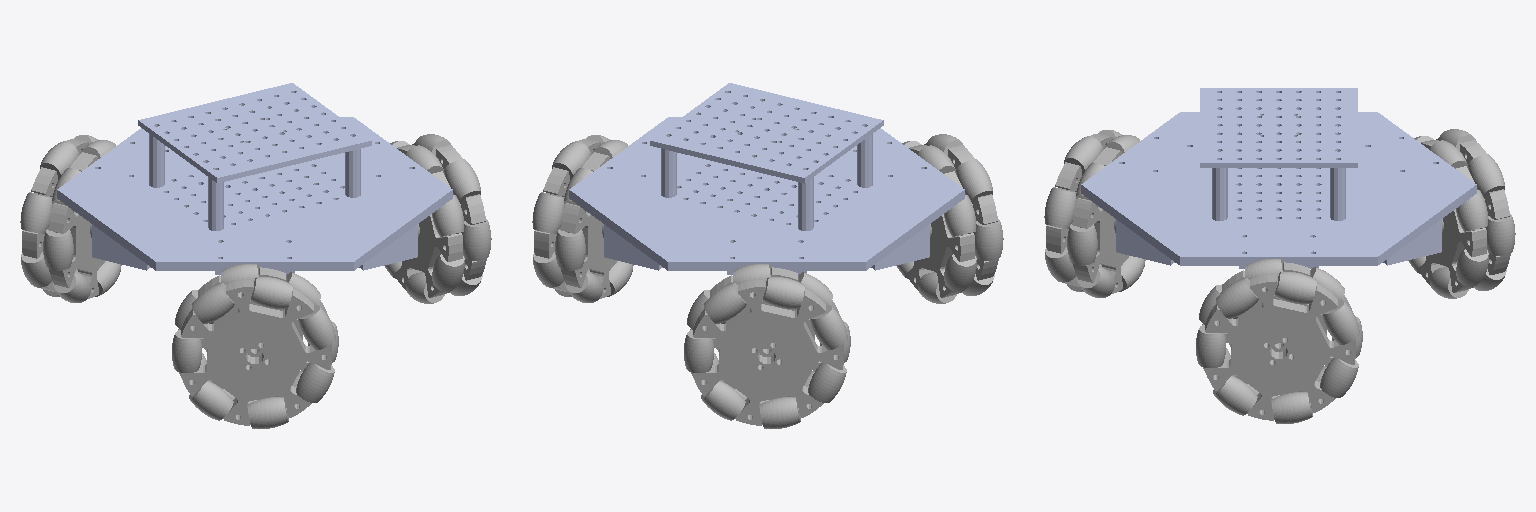
URDF robot description (allwheel_urdf):
<?xml version="1.0" encoding="utf-8"?>
<!-- This URDF was automatically created by SolidWorks to URDF Exporter! Originally created by [author] ([email redacted]) 
     Commit Version: 1.6.0-4-g7f85cfe  Build Version: 1.6.7995.38578
     For more information, please see http://wiki.ros.org/sw_urdf_exporter -->
<robot
  name="allwheel_urdf">
  <link
    name="base_link">
    <inertial>
      <origin
        xyz="3.2612801348364E-15 2.98274859672487E-15 -0.0102615683558075"
        rpy="0 0 0" />
      <mass
        value="0.255742000192013" />
      <inertia
        ixx="0.000302796409258888"
        ixy="-3.92027771042362E-19"
        ixz="-1.46296662392844E-19"
        iyy="0.000302202648247359"
        iyz="-9.95263713023803E-20"
        izz="0.000556226204689963" />
    </inertial>
    <visual>
      <origin
        xyz="0 0 0"
        rpy="0 0 0" />
      <geometry>
        <mesh
          filename="package://allwheel_urdf/meshes/base_link.STL" />
      </geometry>
      <material
        name="">
        <color
          rgba="0.792156862745098 0.819607843137255 0.933333333333333 1" />
      </material>
    </visual>
    <collision>
      <origin
        xyz="0 0 0"
        rpy="0 0 0" />
      <geometry>
        <mesh
          filename="package://allwheel_urdf/meshes/base_link.STL" />
      </geometry>
    </collision>
  </link>
  <link
    name="front_link">
    <inertial>
      <origin
        xyz="0.00291772242218888 -3.96001122382623E-17 3.67729594369733E-17"
        rpy="0 0 0" />
      <mass
        value="0.109903140807102" />
      <inertia
        ixx="2.82980917306225E-05"
        ixy="7.48060042323109E-22"
        ixz="-1.69854388671089E-21"
        iyy="1.73831765621433E-05"
        iyz="8.36445035413622E-21"
        izz="1.73831765621433E-05" />
    </inertial>
    <visual>
      <origin
        xyz="0 0 0"
        rpy="0 0 0" />
      <geometry>
        <mesh
          filename="package://allwheel_urdf/meshes/front_link.STL" />
      </geometry>
      <material
        name="">
        <color
          rgba="0.752941176470588 0.752941176470588 0.752941176470588 1" />
      </material>
    </visual>
    <collision>
      <origin
        xyz="0 0 0"
        rpy="0 0 0" />
      <geometry>
        <mesh
          filename="package://allwheel_urdf/meshes/front_link.STL" />
      </geometry>
    </collision>
  </link>
  <joint
    name="front_wheel_joint"
    type="continuous">
    <origin
      xyz="0.0990025403784439 0 -0.0351150000000006"
      rpy="0 0 0" />
    <parent
      link="base_link" />
    <child
      link="front_link" />
    <axis
      xyz="1 0 0" />
  </joint>
  <link
    name="right_Link">
    <inertial>
      <origin
        xyz="0.00291772242218893 -1.2490009027033E-16 3.36091510237884E-17"
        rpy="0 0 0" />
      <mass
        value="0.109903140807102" />
      <inertia
        ixx="2.82980917306225E-05"
        ixy="3.81164826264435E-21"
        ixz="-2.9926600267234E-21"
        iyy="1.73831765621433E-05"
        iyz="1.01781304777338E-20"
        izz="1.73831765621432E-05" />
    </inertial>
    <visual>
      <origin
        xyz="0 0 0"
        rpy="0 0 0" />
      <geometry>
        <mesh
          filename="package://allwheel_urdf/meshes/right_Link.STL" />
      </geometry>
      <material
        name="">
        <color
          rgba="0.752941176470588 0.752941176470588 0.752941176470588 1" />
      </material>
    </visual>
    <collision>
      <origin
        xyz="0 0 0"
        rpy="0 0 0" />
      <geometry>
        <mesh
          filename="package://allwheel_urdf/meshes/right_Link.STL" />
      </geometry>
    </collision>
  </link>
  <joint
    name="right_wheel_joint"
    type="continuous">
    <origin
      xyz="-0.0495012701892215 -0.0857387150069273 -0.0351150000000006"
      rpy="0 0 -2.09439510239319" />
    <parent
      link="base_link" />
    <child
      link="right_Link" />
    <axis
      xyz="1 0 0" />
  </joint>
  <link
    name="left_Link">
    <inertial>
      <origin
        xyz="0.00291772242218896 -8.32667268468867E-17 4.16322471001811E-17"
        rpy="0 0 0" />
      <mass
        value="0.109903140807102" />
      <inertia
        ixx="2.82980917306225E-05"
        ixy="8.470329472543E-22"
        ixz="-4.04814248834114E-21"
        iyy="1.73831765621433E-05"
        iyz="7.3114989324433E-21"
        izz="1.73831765621432E-05" />
    </inertial>
    <visual>
      <origin
        xyz="0 0 0"
        rpy="0 0 0" />
      <geometry>
        <mesh
          filename="package://allwheel_urdf/meshes/left_Link.STL" />
      </geometry>
      <material
        name="">
        <color
          rgba="0.752941176470588 0.752941176470588 0.752941176470588 1" />
      </material>
    </visual>
    <collision>
      <origin
        xyz="0 0 0"
        rpy="0 0 0" />
      <geometry>
        <mesh
          filename="package://allwheel_urdf/meshes/left_Link.STL" />
      </geometry>
    </collision>
  </link>
  <joint
    name="left_wheel_joint"
    type="continuous">
    <origin
      xyz="-0.049501270189222 0.085738715006927 -0.0351150000000006"
      rpy="0 0 2.0943951023932" />
    <parent
      link="base_link" />
    <child
      link="left_Link" />
    <axis
      xyz="1 0 0" />
  </joint>
  <link
    name="imu_Link">
    <inertial>
      <origin
        xyz="1.38777878078145E-17 -1.64798730217798E-17 0.00117501372111883"
        rpy="0 0 0" />
      <mass
        value="0.0283869958164694" />
      <inertia
        ixx="1.7330818944512E-05"
        ixy="-2.18905765877172E-21"
        ixz="4.09211601360512E-22"
        iyy="2.3993887620163E-05"
        iyz="-1.50877743729675E-21"
        izz="3.82718524716327E-05" />
    </inertial>
    <visual>
      <origin
        xyz="0 0 0"
        rpy="0 0 0" />
      <geometry>
        <mesh
          filename="package://allwheel_urdf/meshes/imu_Link.STL" />
      </geometry>
      <material
        name="">
        <color
          rgba="0.792156862745098 0.819607843137255 0.933333333333333 1" />
      </material>
    </visual>
    <collision>
      <origin
        xyz="0 0 0"
        rpy="0 0 0" />
      <geometry>
        <mesh
          filename="package://allwheel_urdf/meshes/imu_Link.STL" />
      </geometry>
    </collision>
  </link>
  <joint
    name="imu_joint"
    type="fixed">
    <origin
      xyz="0 0 0.032"
      rpy="0 0 0" />
    <parent
      link="base_link" />
    <child
      link="imu_Link" />
    <axis
      xyz="0 0 0" />
  </joint>
</robot>

--- Facts derived from the render (not from the file) ---
The picture shows the robot from 3 angles, left to right: view 1: azimuth 30°, elevation 25°; view 2: azimuth 150°, elevation 25°; view 3: azimuth 270°, elevation 25°; orthographic projection.
Model allwheel_urdf with 5 links and 4 joints (3 continuous, 1 fixed), rooted at base_link, posed every joint at zero.
Links seen in each view (by area): view 1: base_link, right_Link, imu_Link, left_Link, front_link; view 2: base_link, left_Link, imu_Link, front_link, right_Link; view 3: base_link, front_link, imu_Link, right_Link, left_Link.
Link boxes in pixels (box(x1,y1,x2,y2)): base_link: box(57, 117, 452, 274); right_Link: box(172, 264, 338, 428); imu_Link: box(138, 83, 371, 230); left_Link: box(20, 135, 121, 302); front_link: box(384, 134, 491, 303); base_link: box(569, 117, 964, 274); left_Link: box(684, 264, 850, 428); imu_Link: box(650, 83, 883, 230); front_link: box(532, 135, 633, 302); right_Link: box(896, 134, 1003, 303); base_link: box(1081, 112, 1476, 268); front_link: box(1196, 259, 1362, 423); imu_Link: box(1200, 88, 1357, 220); right_Link: box(1044, 130, 1145, 297); left_Link: box(1408, 129, 1515, 298).
Size in the robot's own frame: 0.2092 by 0.2381 by 0.1151 metres.
5 mesh visuals loaded from 5 distinct referenced files (5 binary STL).